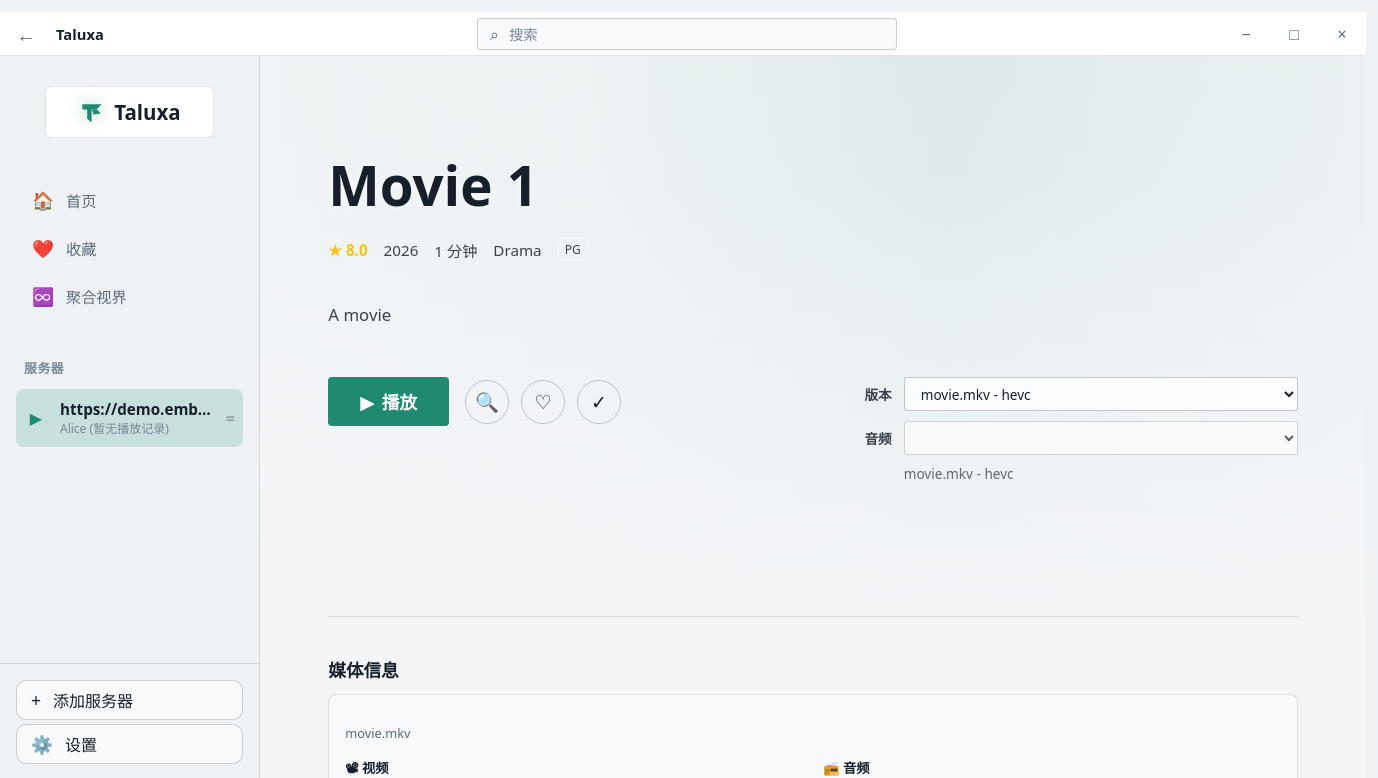
Test: playback performance route behavior › reports redacted recoverable failure timing for the current launch failure
This screenshot has width=1378, height=778.
Expected: the heading "Movie 1" is shown, x1=328 y1=148 x2=538 y2=222
Click the button "▶ 播放" at point(389, 402), box x1=328 y1=378 x2=449 y2=426
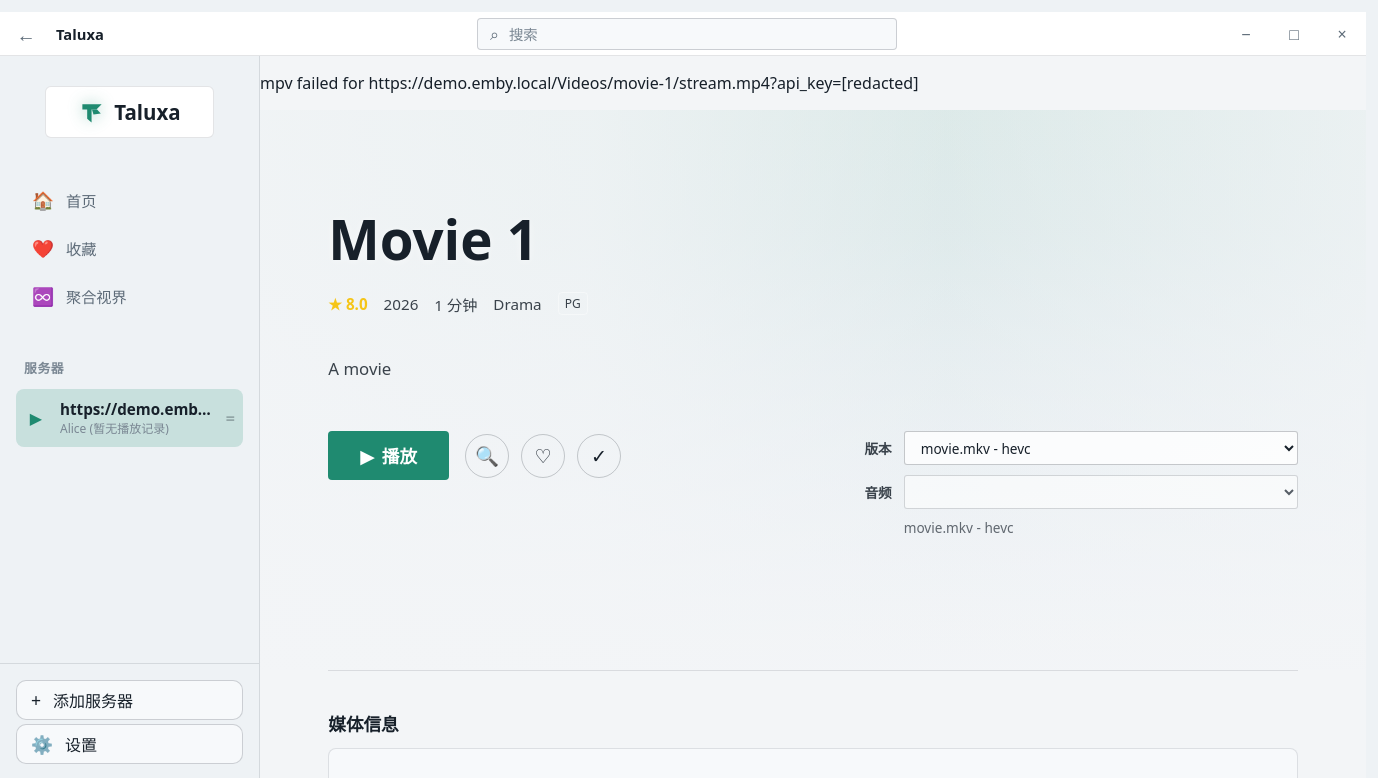
Expected: the message does not show "token-123", x1=260 y1=72 x2=918 y2=94
Expected: the number of messages is 1, x1=260 y1=72 x2=918 y2=94
Expected: the message shows "mpv failed for https://demo.emby.local/Videos/movie-1/stream.mp4?api_key=[redacted]", x1=260 y1=72 x2=918 y2=94
